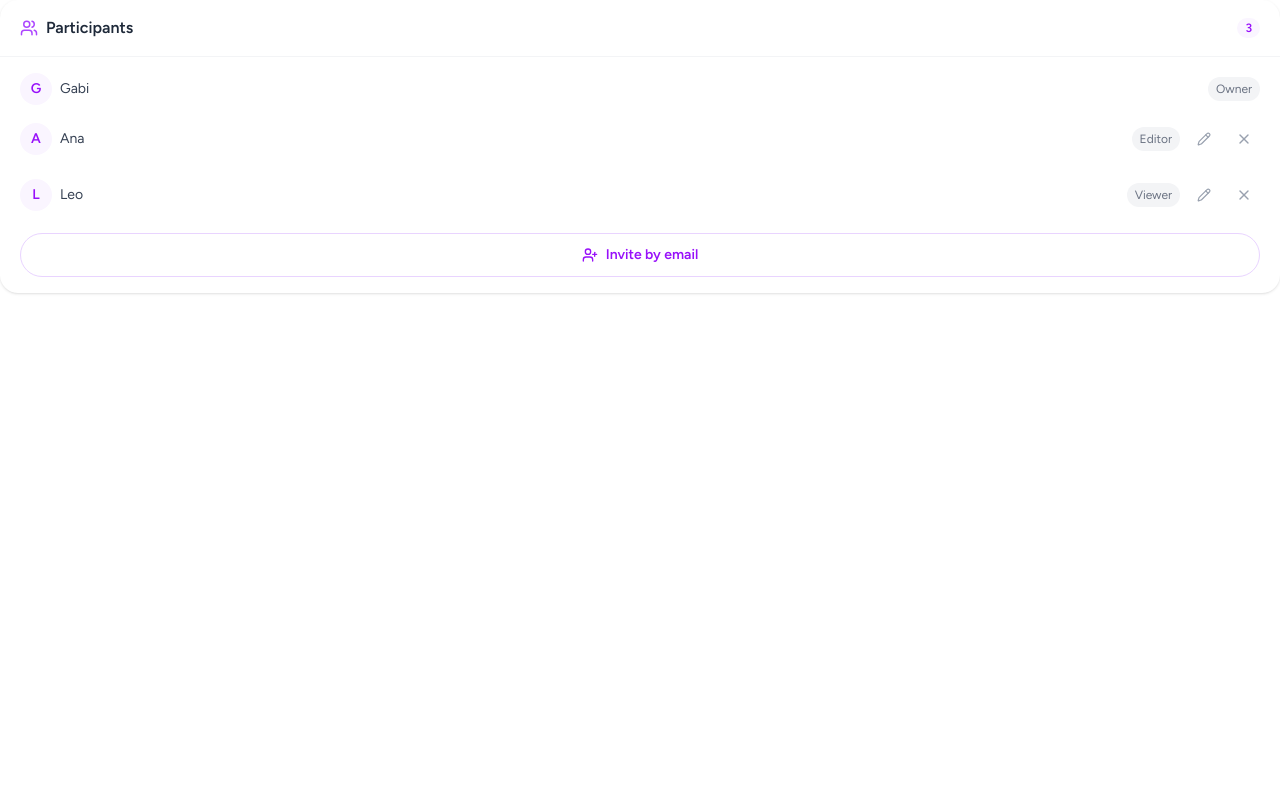
Test case: Participants › removing › explains a 401 failure and keeps the list
The width and height of the screenshot is (1280, 800).
Click the button named "Remove Ana" at [1244, 139], box [1228, 117, 1260, 161]
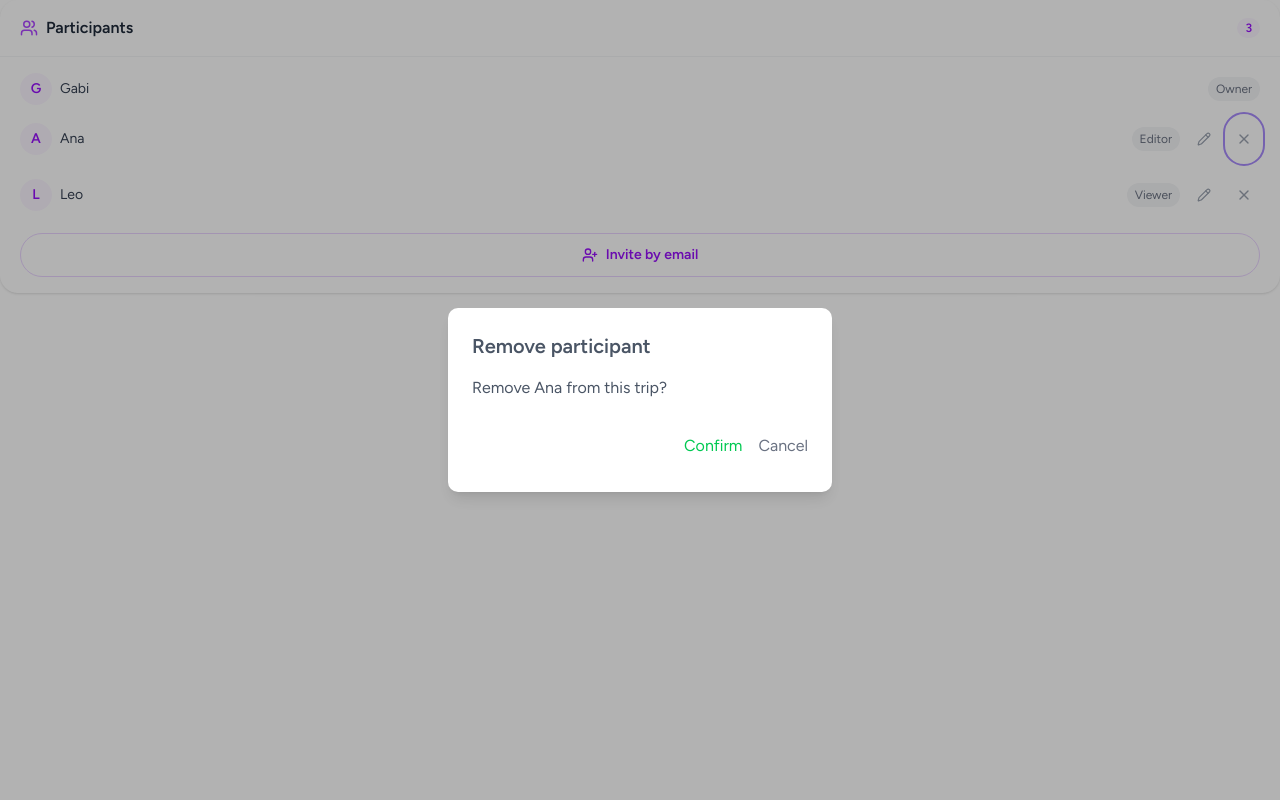
Click the button "Confirm" at [713, 446], box [684, 424, 742, 468]
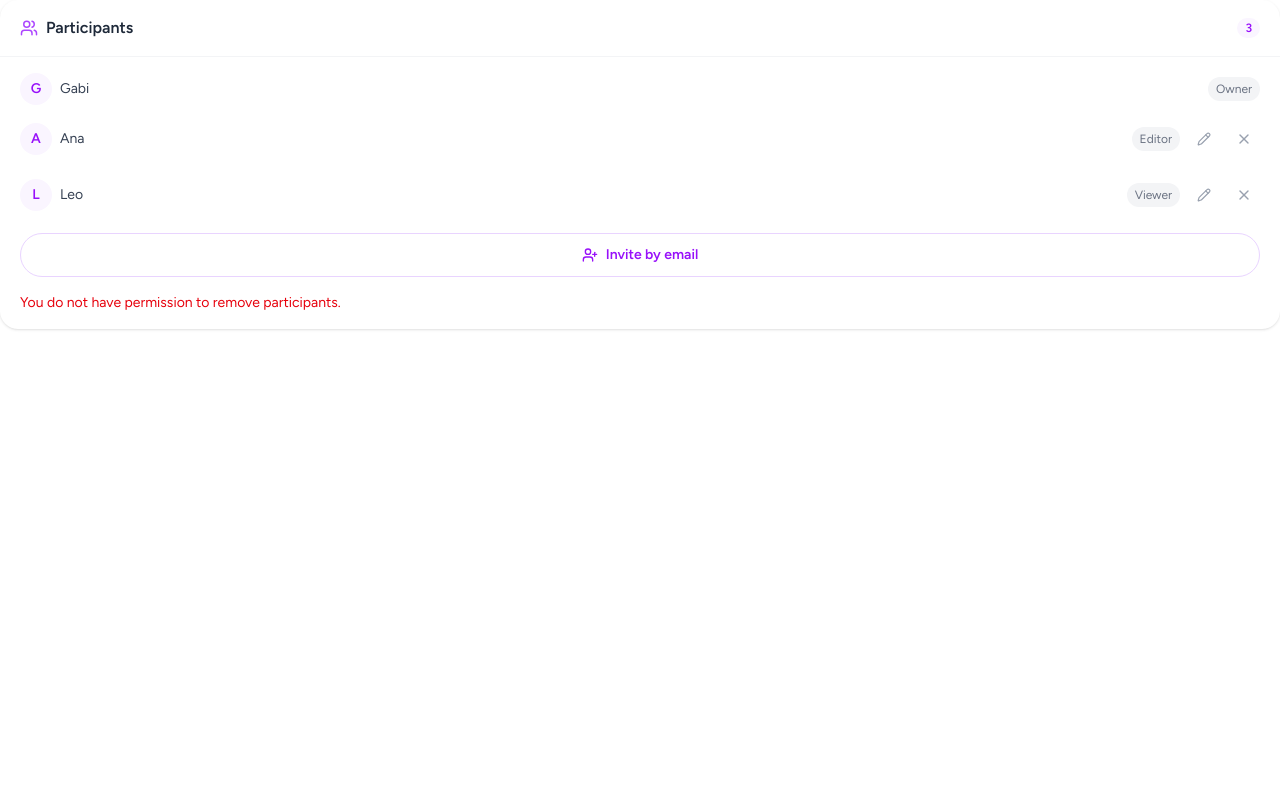
Expected: the text "Ana" is shown, [60, 130, 84, 147]
Expected: the message reads "You do not have permission to remove participants.", [20, 294, 341, 311]
